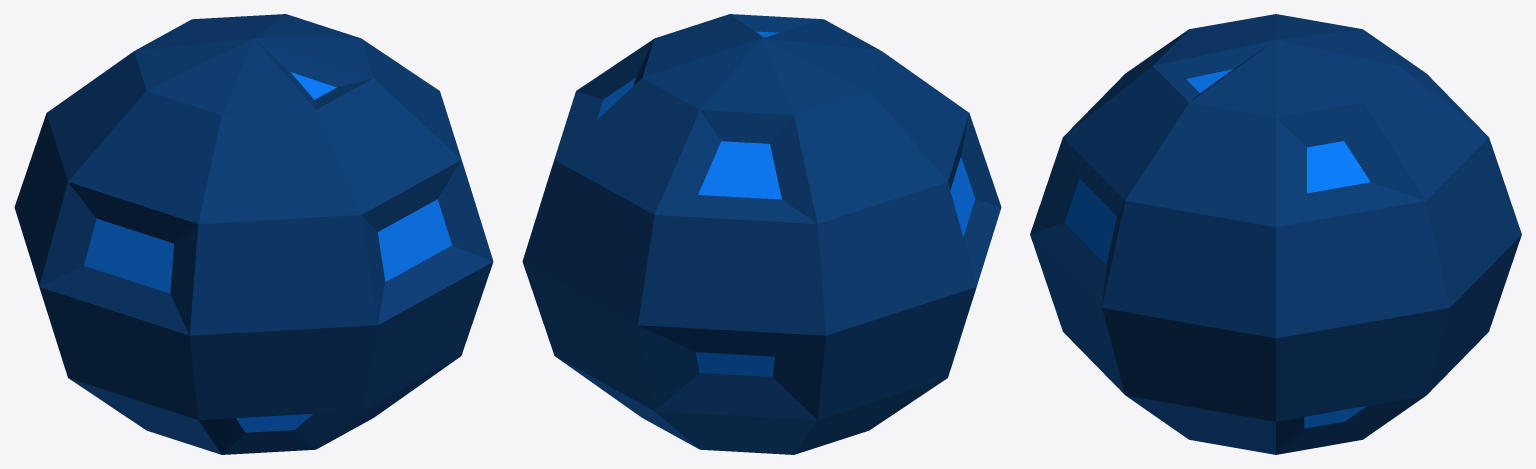
File: Vitoria_Minion_One.fbx
3 views of the same model, side by side, from view 1: azimuth 30°, elevation 25°; view 2: azimuth 150°, elevation 25°; view 3: azimuth 270°, elevation 25° (orthographic).
Parts seen in each view (by area): view 1: Sphere; view 2: Sphere; view 3: Sphere.
Part boxes in pixels (<box>): Sphere: <box>14,14,493,454</box>; Sphere: <box>522,14,1001,454</box>; Sphere: <box>1030,14,1521,454</box>.
Size of the model in its own units: 200 by 175 by 200.
